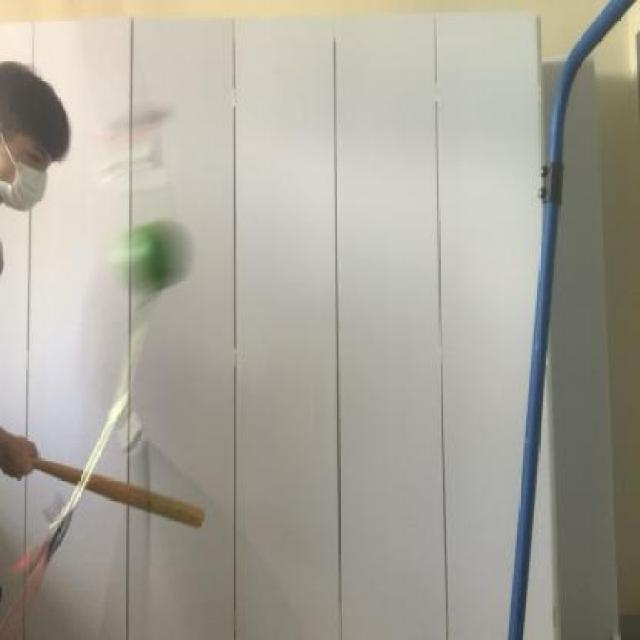baseball: (92, 209, 192, 300)
